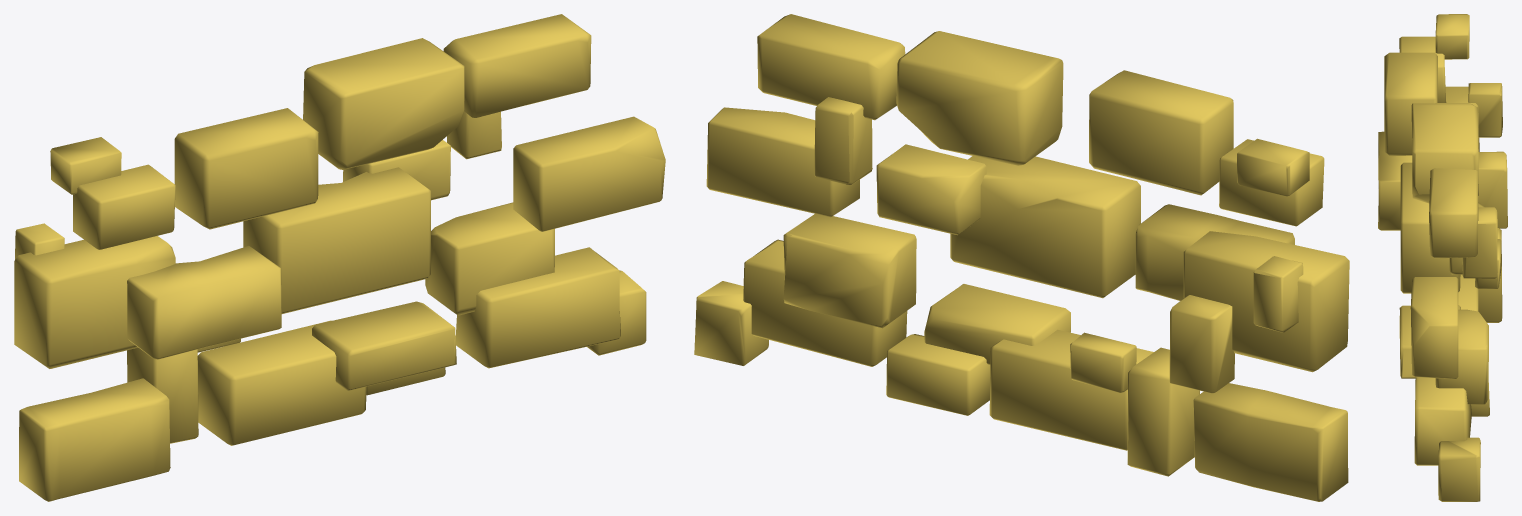
Rendered from door_04_low.fbx.
3 renders of one model, left to right at view 1: azimuth 30°, elevation 25°; view 2: azimuth 150°, elevation 25°; view 3: azimuth 270°, elevation 25°, orthographic. The views are drawn at different scales.
Visible parts, largest first — view 1: door_01_low; view 2: door_01_low; view 3: door_01_low.
Part boxes in pixels (x1,y1,x2,y2): door_01_low: (14,14,665,501); door_01_low: (694,14,1349,501); door_01_low: (1378,14,1507,501).
Size of the model in its own units: 473 by 108 by 253.
